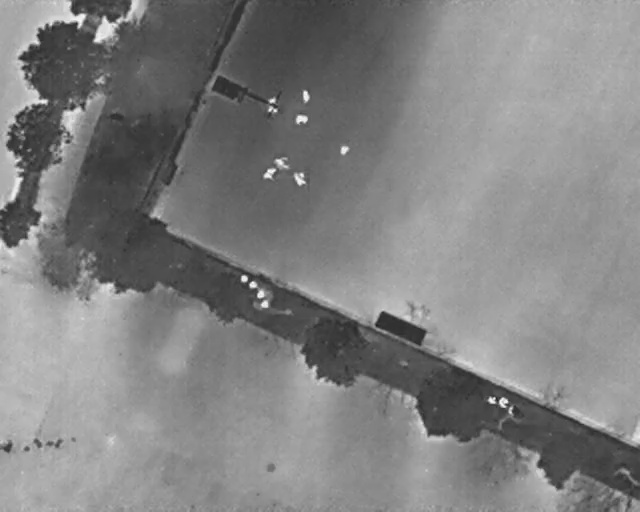Person: (290, 168, 310, 190), (271, 151, 293, 171), (260, 164, 279, 183), (267, 96, 279, 114), (300, 89, 310, 103), (294, 115, 309, 124), (340, 144, 351, 156)
